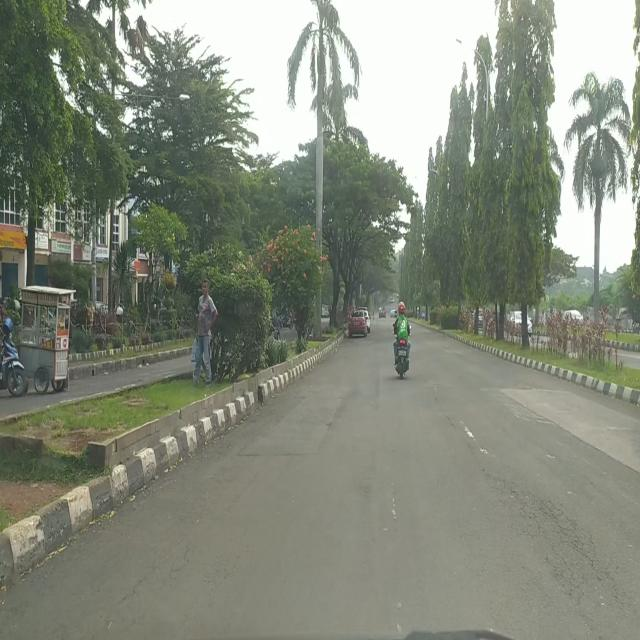Drain Hole: (479, 468, 632, 613)
